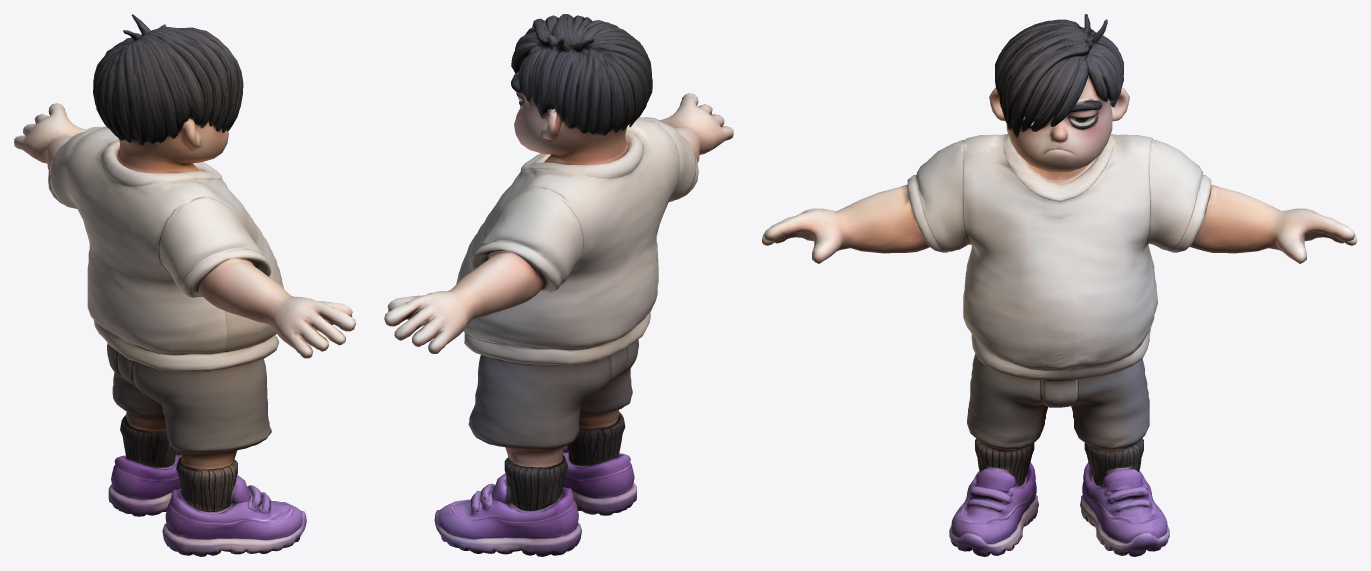
The picture shows the model from 3 angles, left to right: view 1: azimuth 30°, elevation 25°; view 2: azimuth 150°, elevation 25°; view 3: azimuth 270°, elevation 25°; orthographic projection. The views are drawn at different scales.
Visible parts, largest first — view 1: tripo_node_72deb8a8; view 2: tripo_node_72deb8a8; view 3: tripo_node_72deb8a8.
Part boxes in pixels (box(x1,y1,x2,y2)): tripo_node_72deb8a8: box(14, 14, 355, 556); tripo_node_72deb8a8: box(384, 14, 733, 556); tripo_node_72deb8a8: box(762, 14, 1356, 556).
Bounding box in the file's own units: 0.3307 × 0.91 × 1.
1 material, 1 textured.
